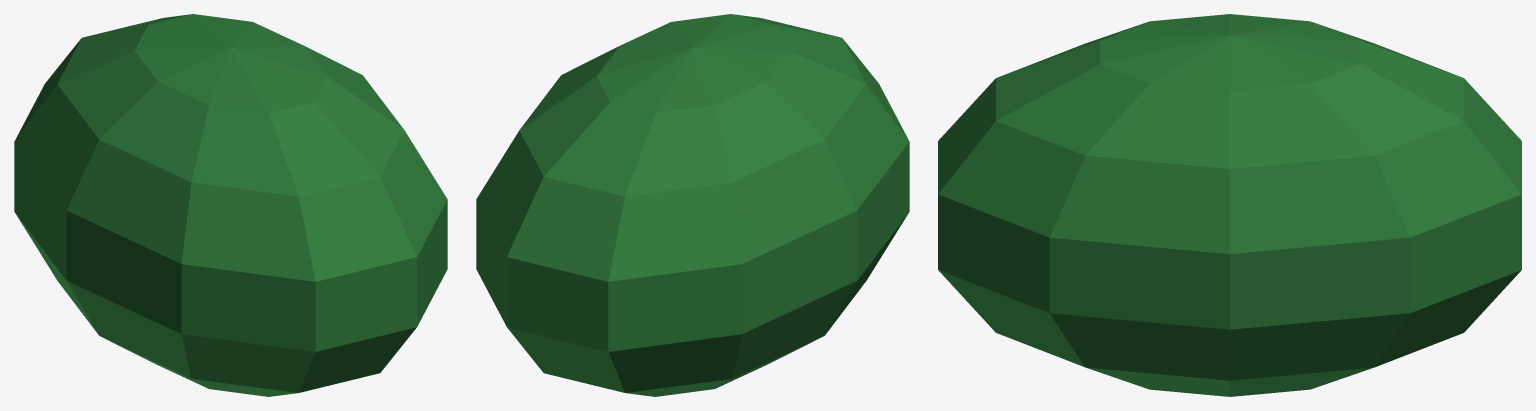
File: market_veggie_melon.glb
3 renders of one model, left to right at view 1: azimuth 30°, elevation 25°; view 2: azimuth 150°, elevation 25°; view 3: azimuth 270°, elevation 25°, orthographic. The views are drawn at different scales.
Parts seen in each view (by area): view 1: veggie_market_veggie_melon; view 2: veggie_market_veggie_melon; view 3: veggie_market_veggie_melon.
Boxes of the visible parts, box(x1,y1,x2,y2) form: veggie_market_veggie_melon: box(14, 14, 447, 396); veggie_market_veggie_melon: box(476, 14, 909, 396); veggie_market_veggie_melon: box(938, 14, 1521, 396).
Bounding box in the file's own units: 0.546 × 0.5 × 0.7789.
